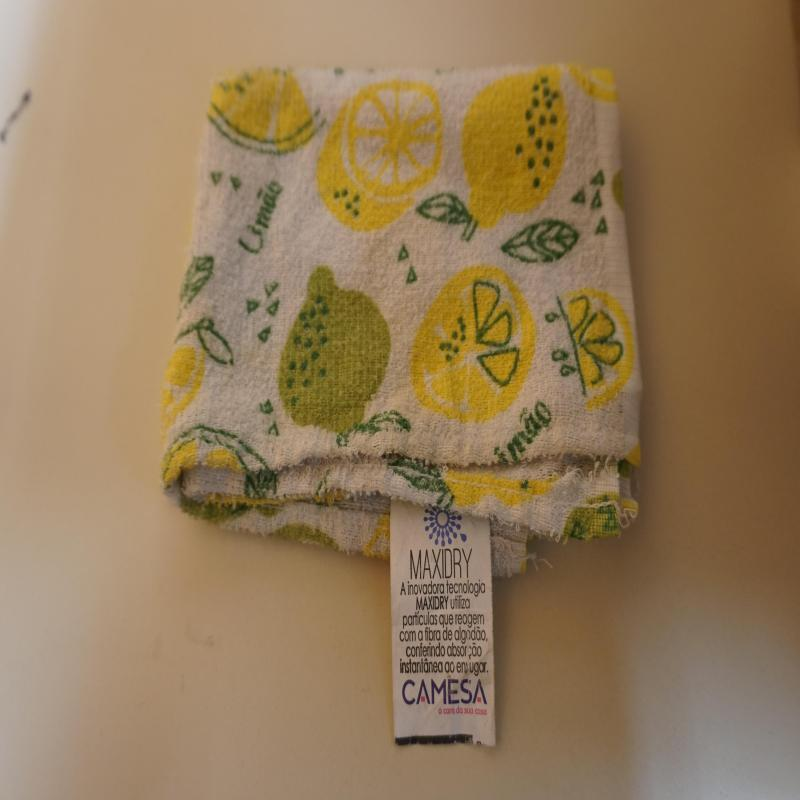Cloth: (158, 63, 644, 750)
